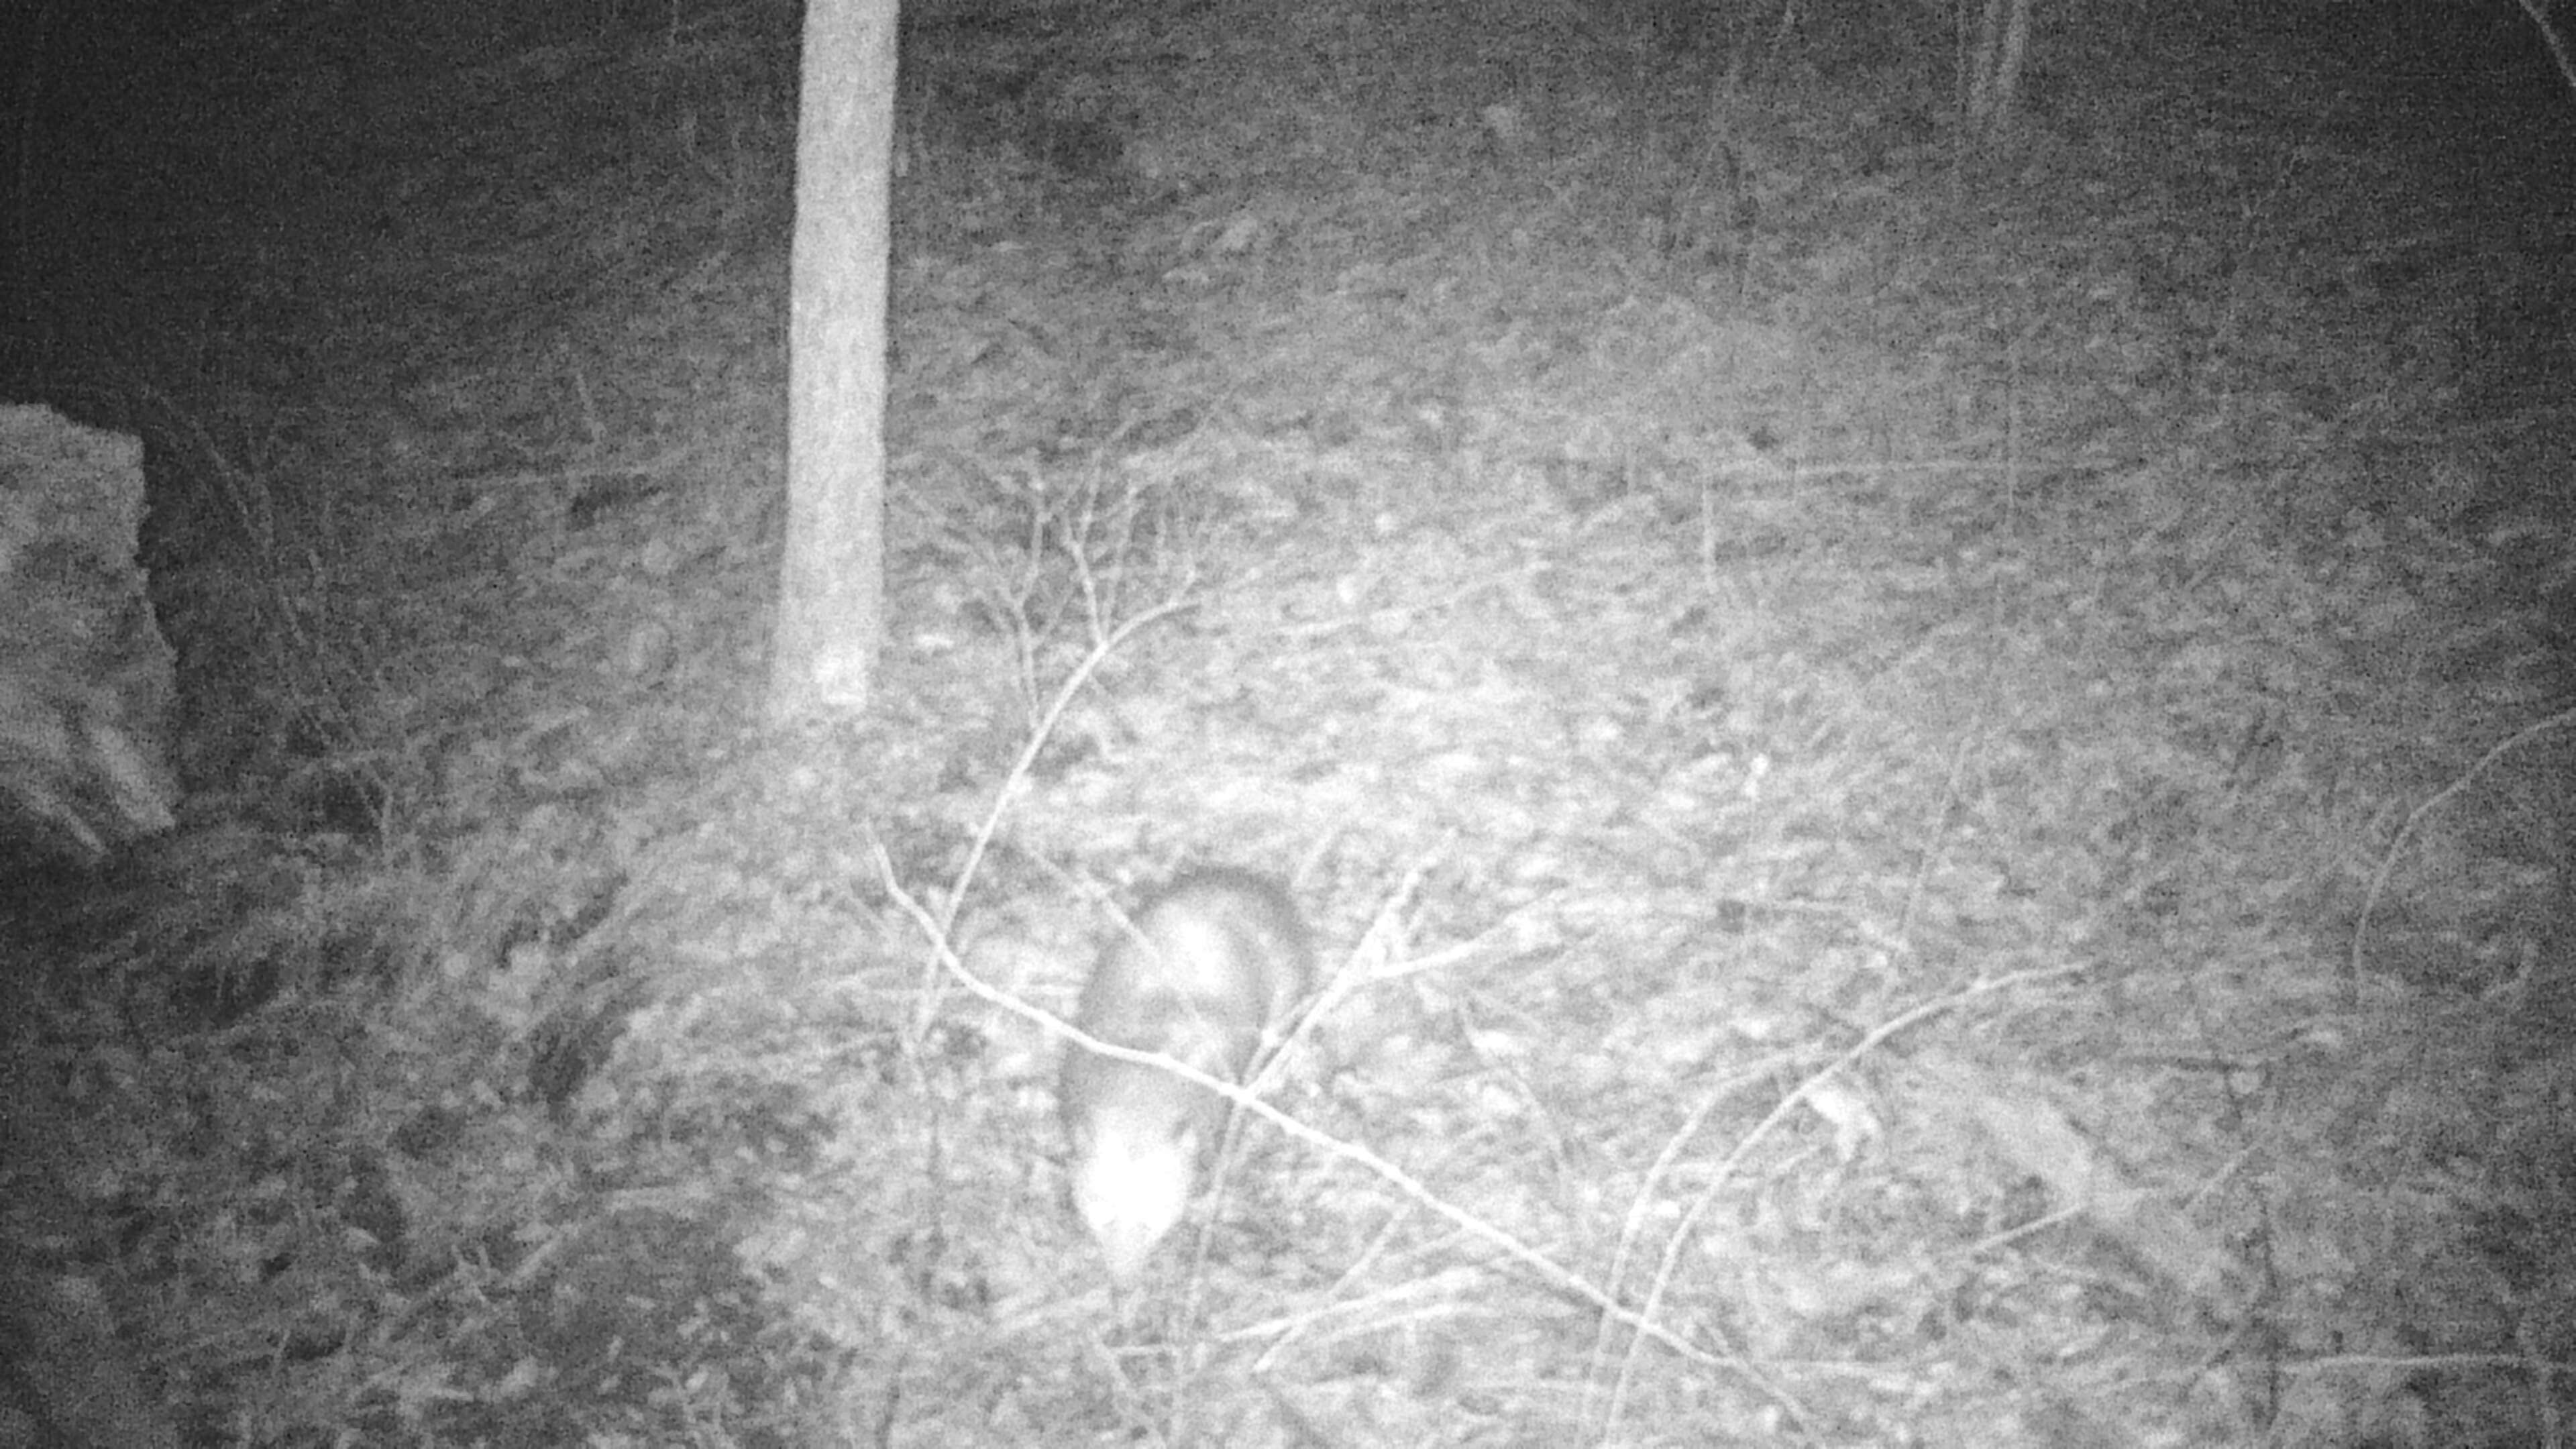Possum: (1058, 789, 1387, 1299)
